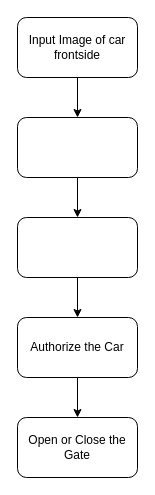
The diagram is 155 pixels wide and 495 high, and some of its shapes have lost their labels. Each missing label, with the centre of its shape:
Do Image Pre-Processing: the point at 77,147
Draw and Crop the Number Plate: the point at 77,247
